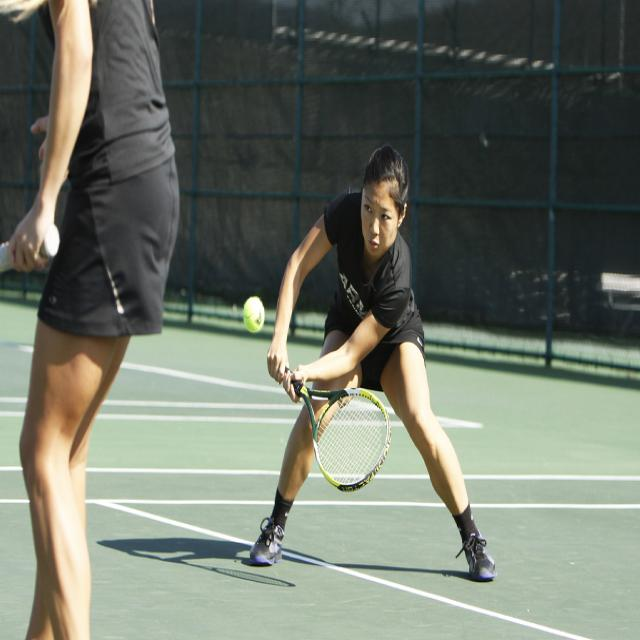Tennis ball: (244, 296, 264, 332)
